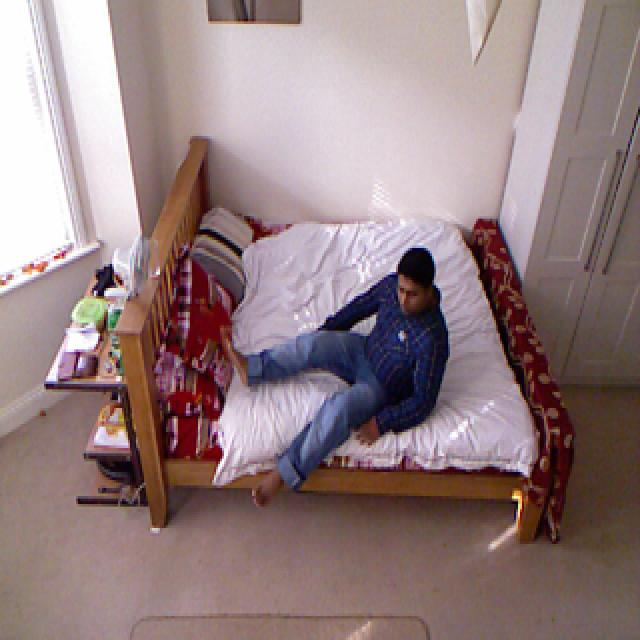sitting: (221, 243, 451, 507)
